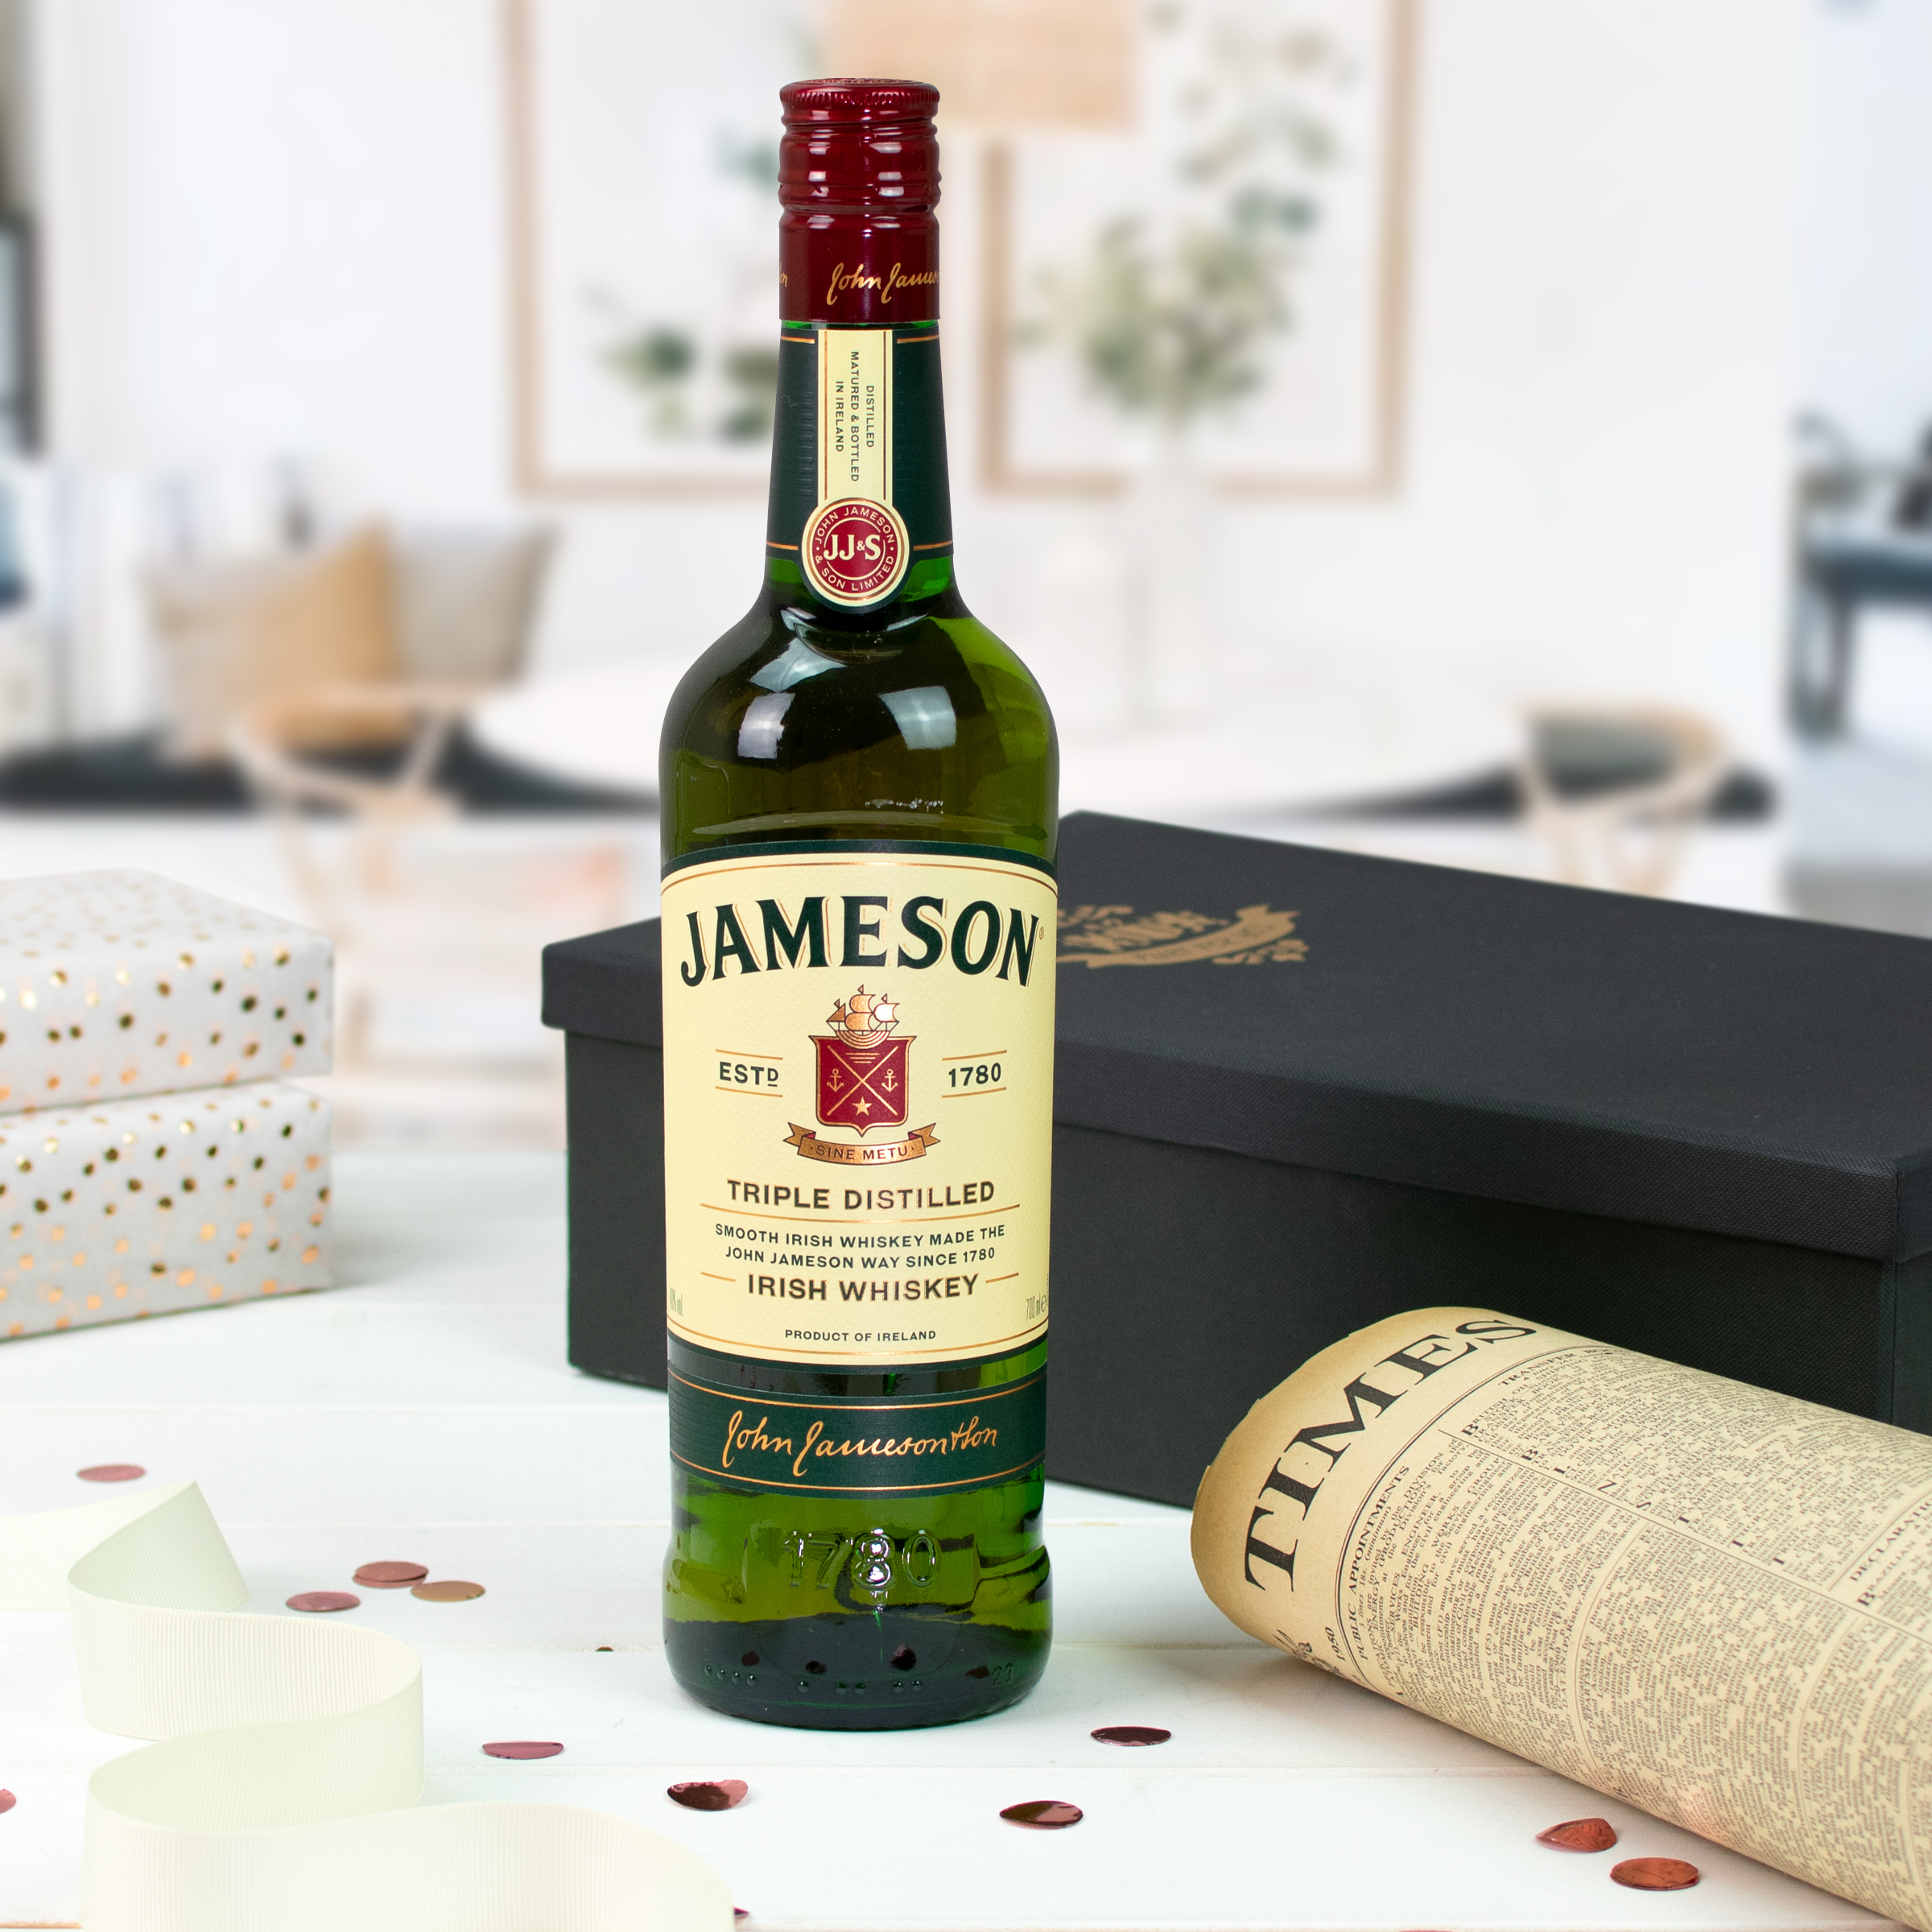Jameson: (640, 69, 1076, 1746)
